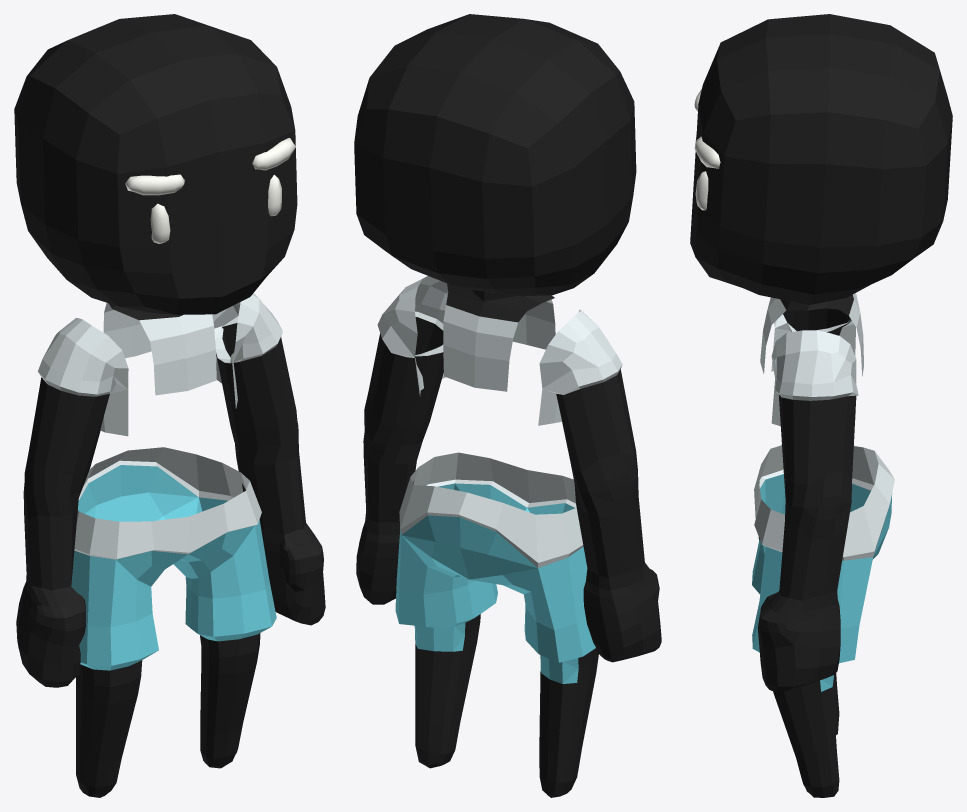
The model's file is clinical-doctor.glb.
3 renders of one model, left to right at view 1: azimuth 30°, elevation 25°; view 2: azimuth 150°, elevation 25°; view 3: azimuth 270°, elevation 25°, orthographic.
Visible parts, largest first — view 1: Body.001; view 2: Body.001; view 3: Body.001.
Part boxes in pixels (<box>): Body.001: <box>14,14,325,797</box>; Body.001: <box>354,14,661,797</box>; Body.001: <box>690,14,952,797</box>.
Size of the model in its own units: 1.3 by 3.12 by 1.01.
